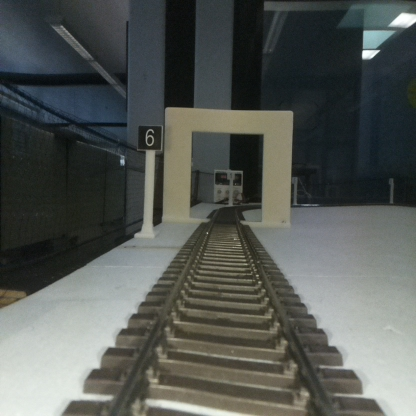black-info-6: (138, 125, 162, 236)
